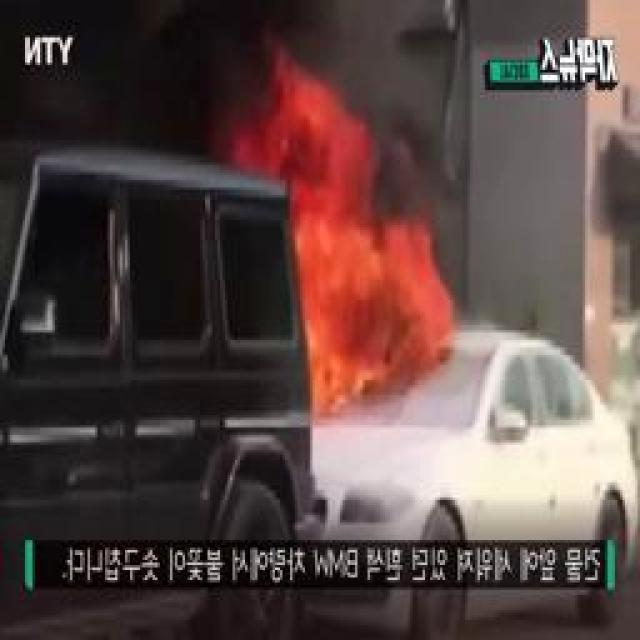Fire: (238, 95, 443, 408)
